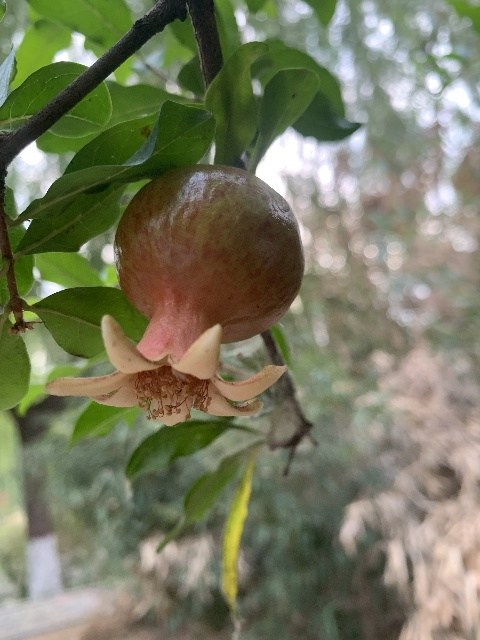early-fruit: (46, 164, 305, 431)
